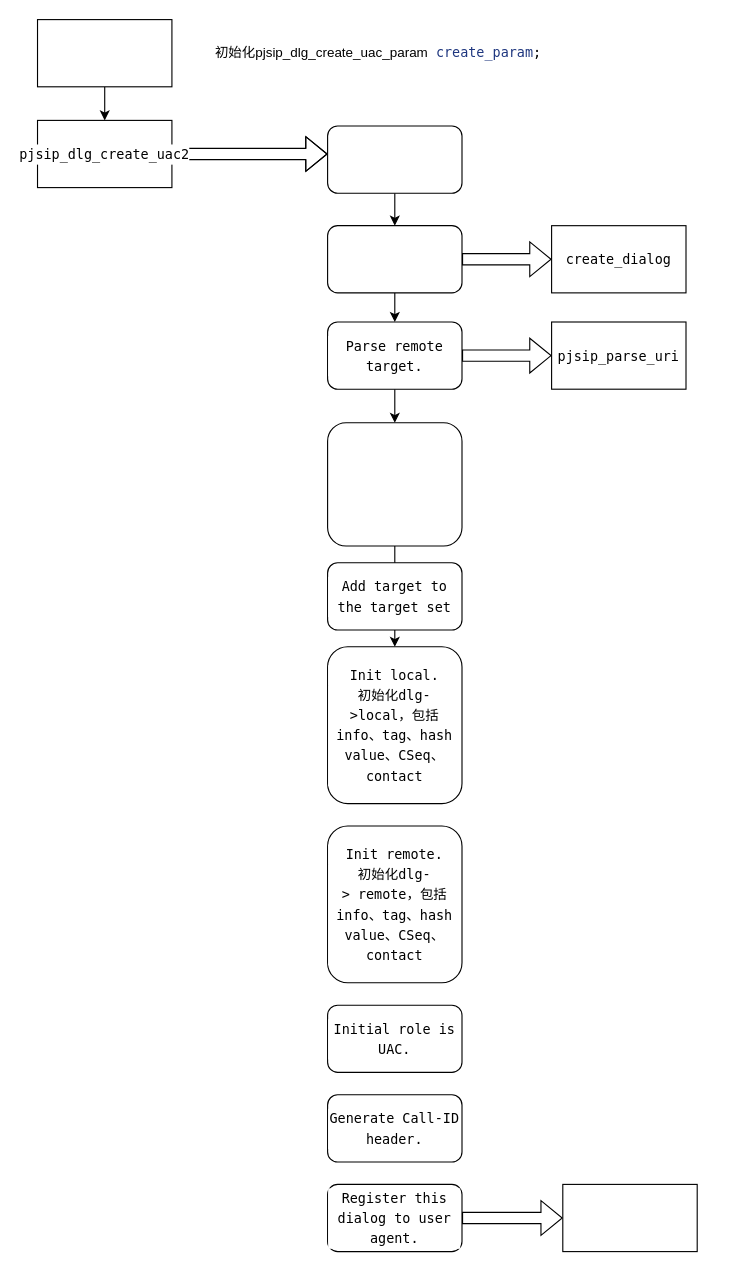
This 734x1271 diagram has some shape labels left out. The shapes that lost their labels are listed below. From the top down, each one's centre as x and y in pixels, then its label:
At point 104,52: "pjsip_dlg_create_uac".
At point 394,159: "Check arguments".
At point 394,259: "Create dialog instance".
At point 394,484: "Put any header param in the target URI into INVITE header list ？？？？".
At point 629,1217: "pjsip_ua_register_dlg".
